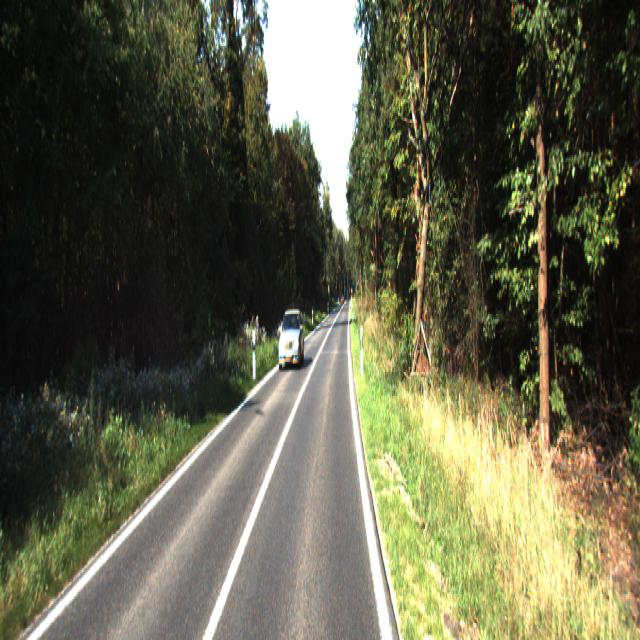Car: (278, 308, 307, 370)
